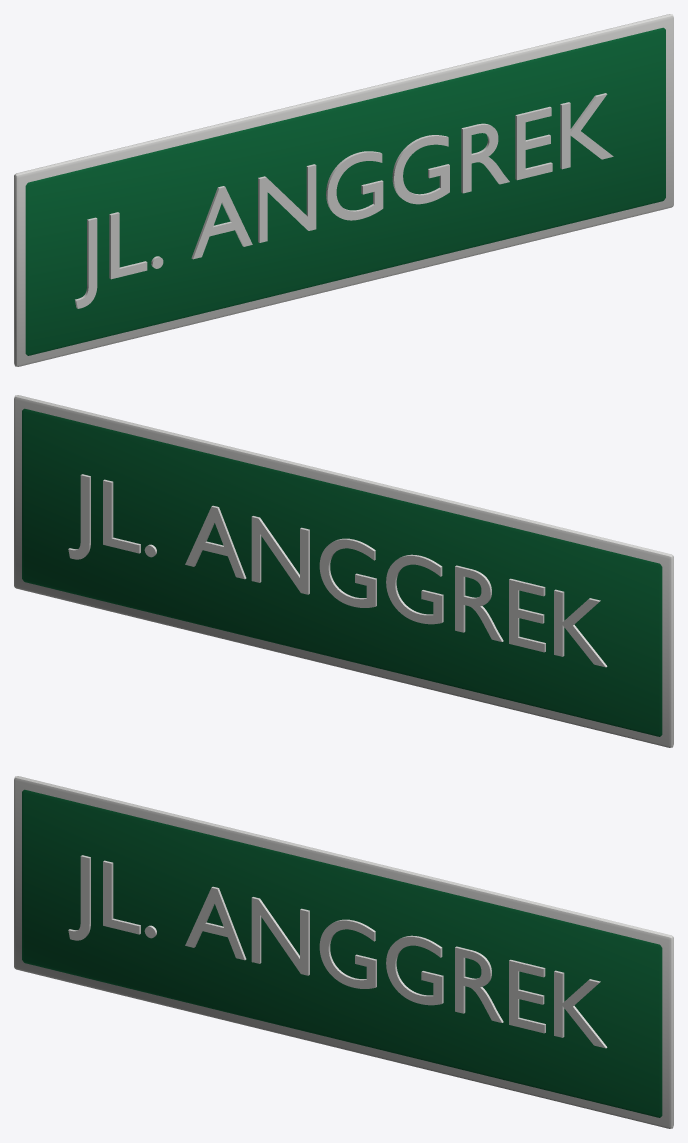
File: StreetName_anggrek.fbx
3 views of the same model, one above another, from view 1: azimuth 30°, elevation 25°; view 2: azimuth 150°, elevation 25°; view 3: azimuth 330°, elevation 25° (orthographic).
Visible parts, largest first — view 1: StreetName_anggrek_Mesh; view 2: StreetName_anggrek_Mesh; view 3: StreetName_anggrek_Mesh.
Part boxes in pixels (x1=…): StreetName_anggrek_Mesh: x1=14, y1=14, x2=673, y2=366; StreetName_anggrek_Mesh: x1=14, y1=395, x2=673, y2=747; StreetName_anggrek_Mesh: x1=14, y1=776, x2=673, y2=1128.
Size of the model in its own units: 1.25 by 0.35 by 0.026.
